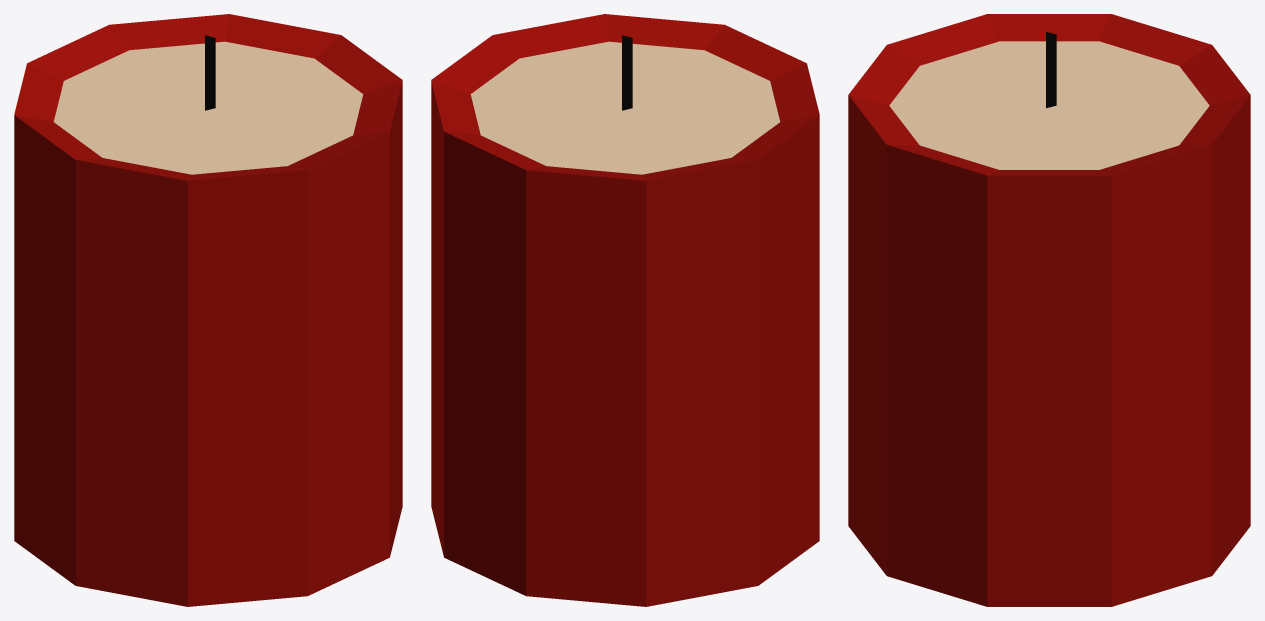
The model's file is Candle_001.fbx.
The picture shows the model from 3 angles, left to right: view 1: azimuth 30°, elevation 25°; view 2: azimuth 150°, elevation 25°; view 3: azimuth 270°, elevation 25°; orthographic projection.
Visible parts, largest first — view 1: candle_001; view 2: candle_001; view 3: candle_001.
Boxes of the visible parts, x1=… form: candle_001: x1=14, y1=14, x2=402, y2=606; candle_001: x1=431, y1=14, x2=819, y2=606; candle_001: x1=848, y1=14, x2=1250, y2=606.
Bounding box in the file's own units: 5.71 × 8.09 × 6.
